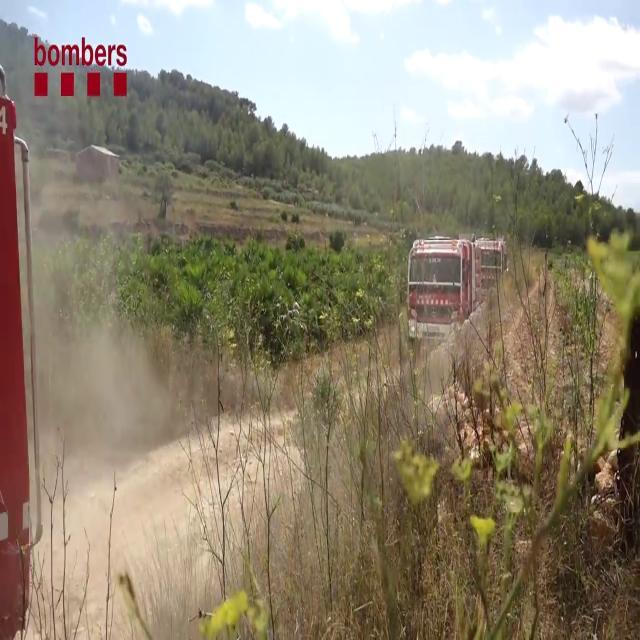Smoke: (28, 240, 172, 502)
